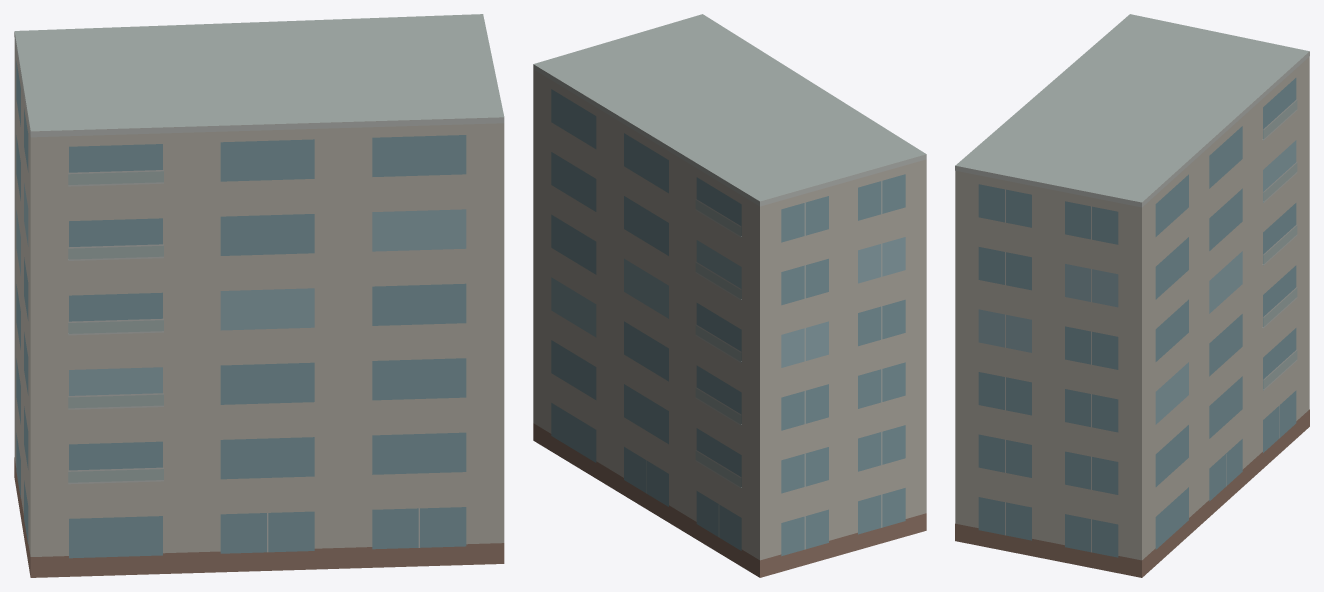
The model's file is survey-upis-32629507.glb.
3 views of the same model, side by side, from view 1: azimuth 30°, elevation 25°; view 2: azimuth 150°, elevation 25°; view 3: azimuth 270°, elevation 25° (orthographic). The views are drawn at different scales.
Visible parts, largest first — view 1: survey-upis-32629507.tmp; view 2: survey-upis-32629507.tmp; view 3: survey-upis-32629507.tmp.
Part boxes in pixels (box(x1,y1,x2,y2)): survey-upis-32629507.tmp: box(14, 14, 504, 577); survey-upis-32629507.tmp: box(533, 14, 926, 577); survey-upis-32629507.tmp: box(955, 14, 1309, 577).
Bounding box in the file's own units: 19.72 × 18.3 × 15.68.
